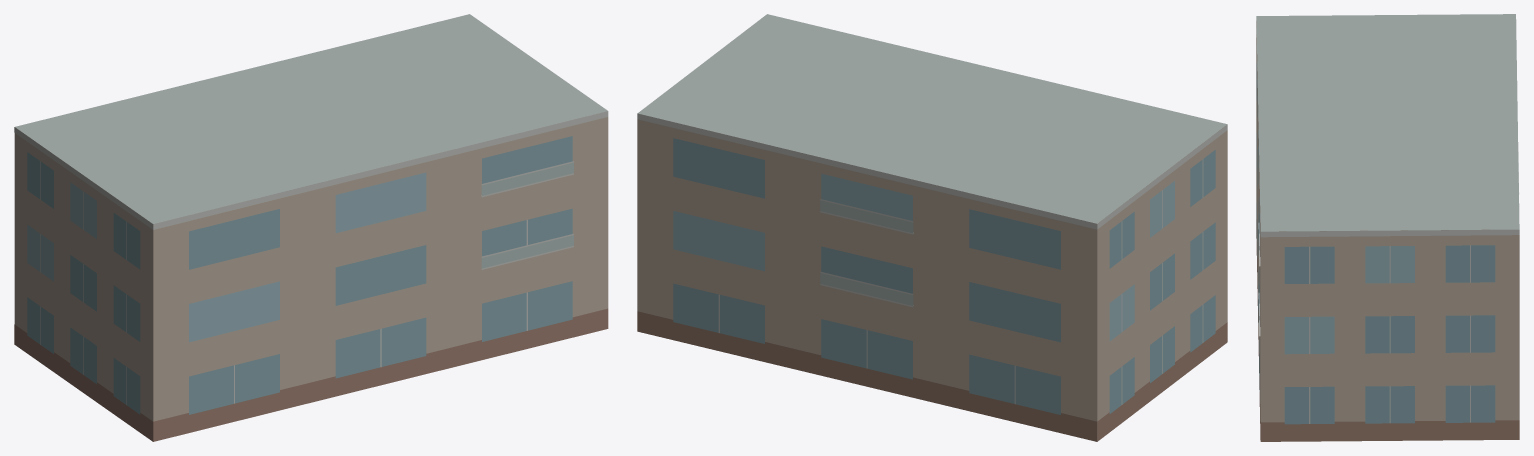
The model's file is survey-upis-32610869.glb.
3 views of the same model, side by side, from view 1: azimuth 30°, elevation 25°; view 2: azimuth 150°, elevation 25°; view 3: azimuth 270°, elevation 25° (orthographic). The views are drawn at different scales.
Visible parts, largest first — view 1: survey-upis-32610869.tmp; view 2: survey-upis-32610869.tmp; view 3: survey-upis-32610869.tmp.
Boxes of the visible parts, x1,y1,x2,y2 form: survey-upis-32610869.tmp: [14, 14, 608, 441]; survey-upis-32610869.tmp: [637, 14, 1227, 441]; survey-upis-32610869.tmp: [1256, 14, 1519, 441].
Bounding box in the file's own units: 20.32 × 9.15 × 10.39.
